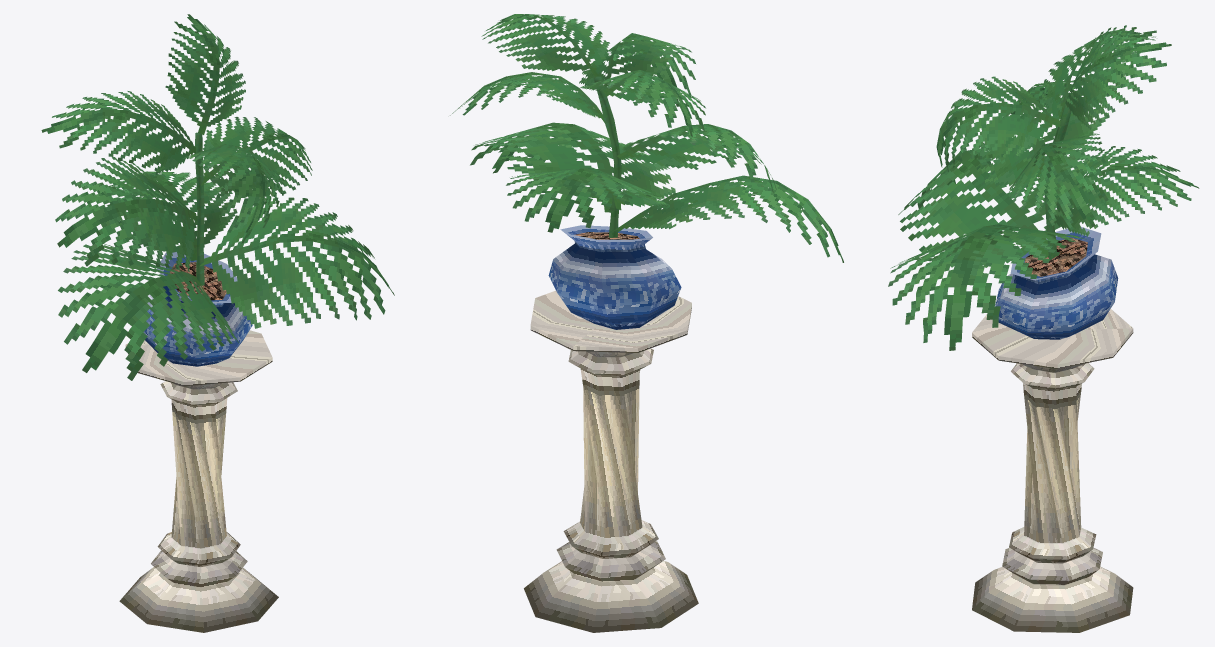
Rendered from ueki28_1-2.glb.
3 renders of one model, left to right at view 1: azimuth 30°, elevation 25°; view 2: azimuth 150°, elevation 25°; view 3: azimuth 270°, elevation 25°, orthographic. The views are drawn at different scales.
Visible parts, largest first — view 1: ueki28_1; view 2: ueki28_1; view 3: ueki28_1.
Part boxes in pixels (x1,y1,x2,y2): ueki28_1: (41, 14, 394, 632); ueki28_1: (450, 14, 843, 632); ueki28_1: (888, 25, 1199, 632).
Bounding box in the file's own units: 257 × 385 × 194.
5 materials, 5 textured.
